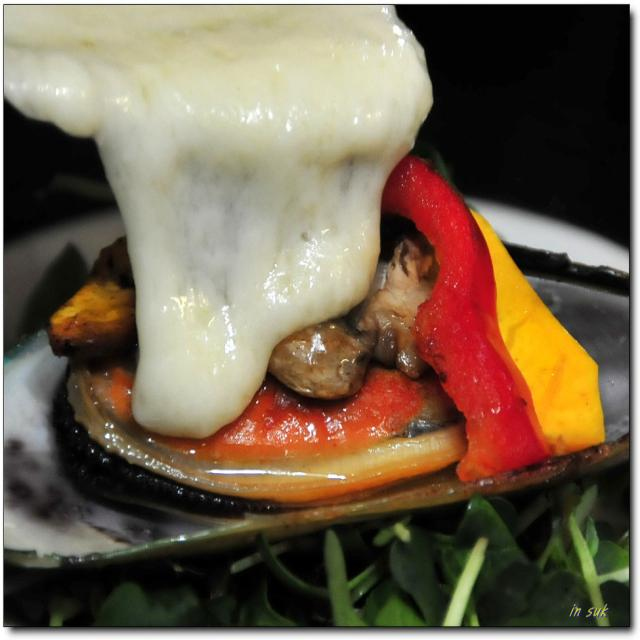cheese: (4, 6, 432, 438)
